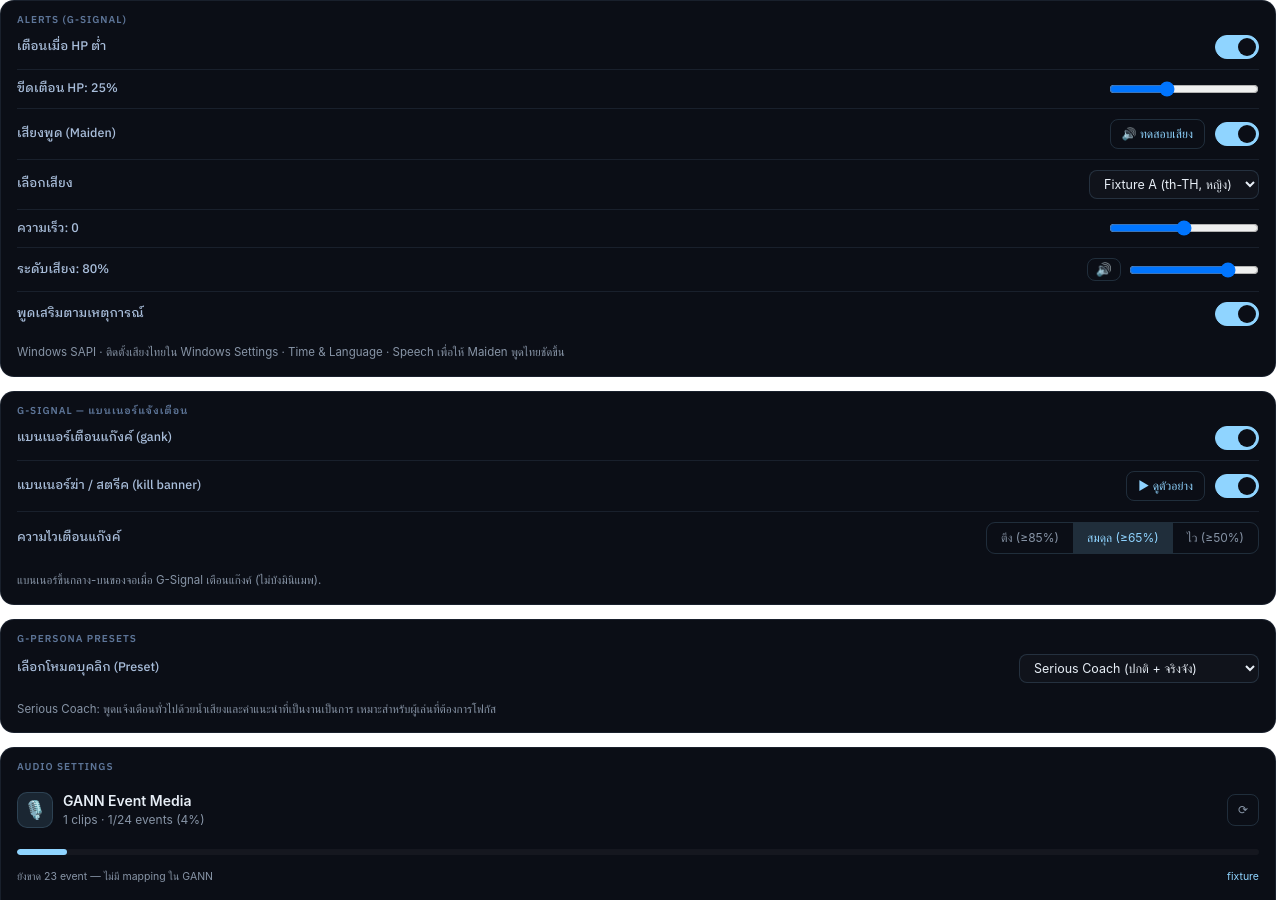
updates actual settings controls while keeping independent event rows out of that invalidation
Click the button "🔊": {"x": 1104, "y": 270} [1087, 258, 1121, 281]
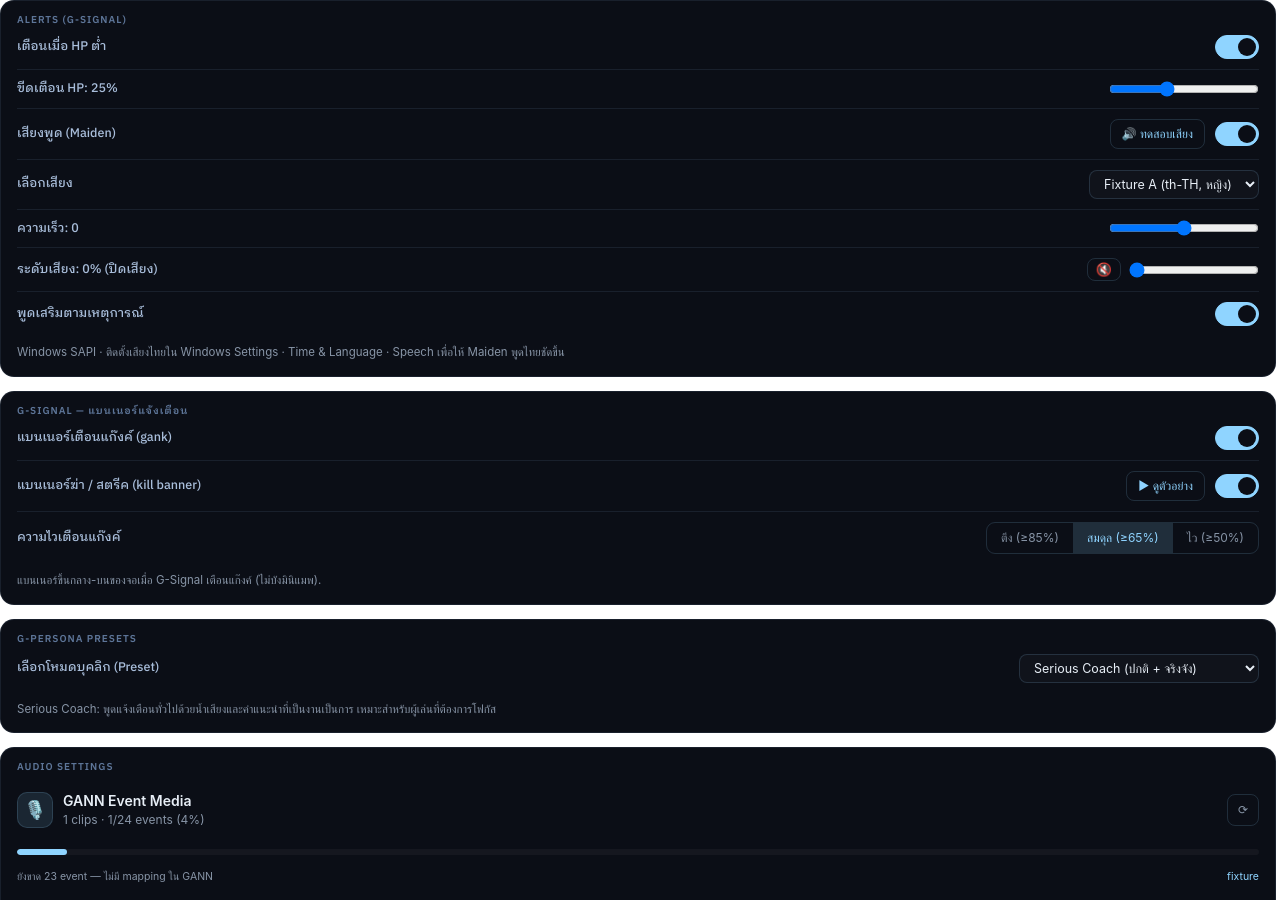
Check: the text "ระดับเสียง: 0% (ปิดเสียง)" is shown, box [17, 261, 158, 278]
Click the button "🔇": {"x": 1104, "y": 270} [1087, 258, 1121, 281]
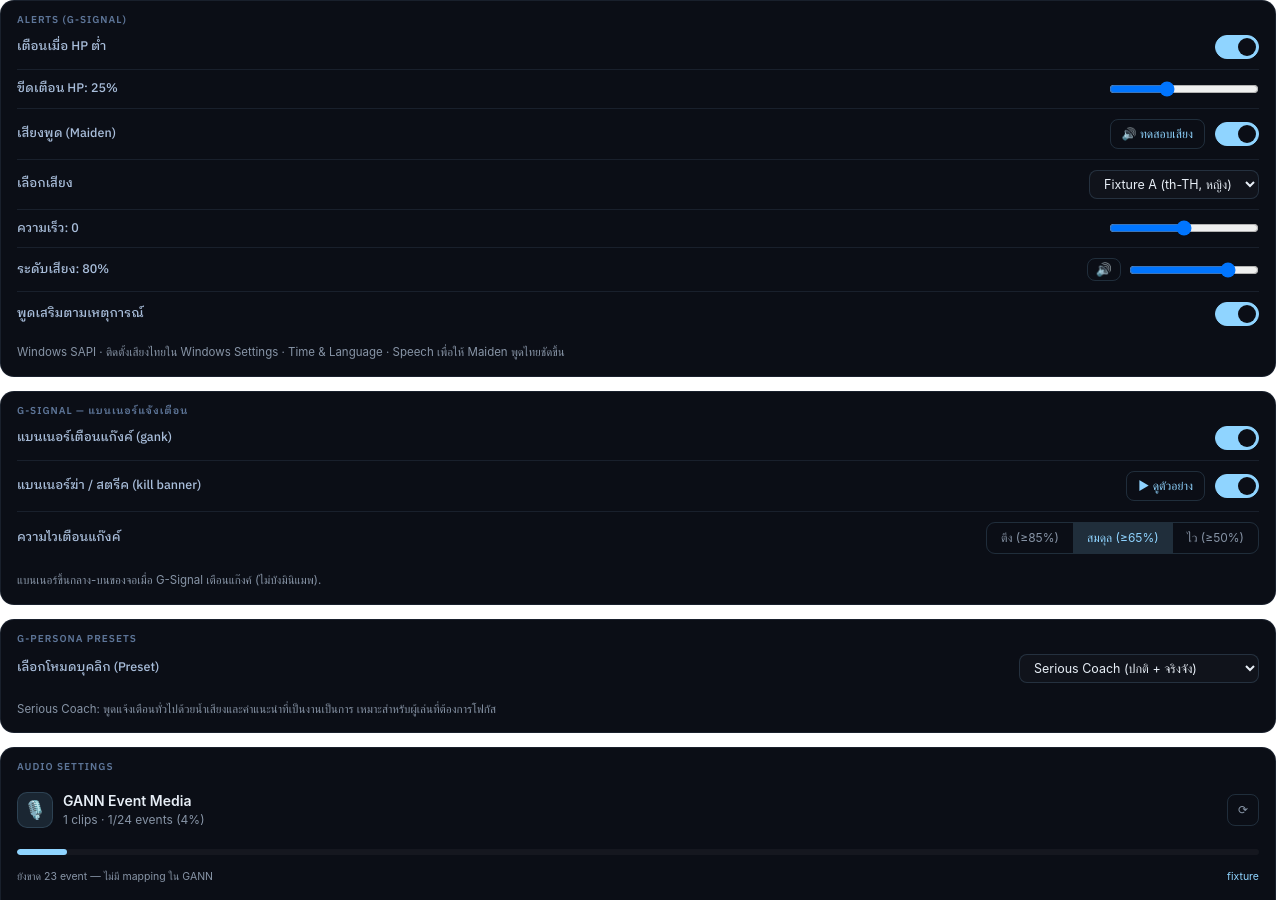
Check: the text "ระดับเสียง: 80%" is shown, box [17, 261, 109, 278]
